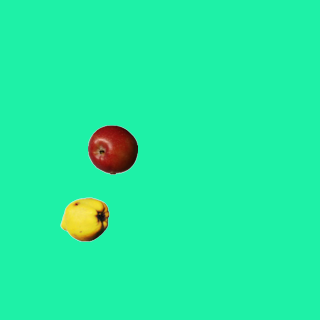Apple Braeburn: (87, 124, 137, 174)
Quince: (59, 194, 109, 244)
